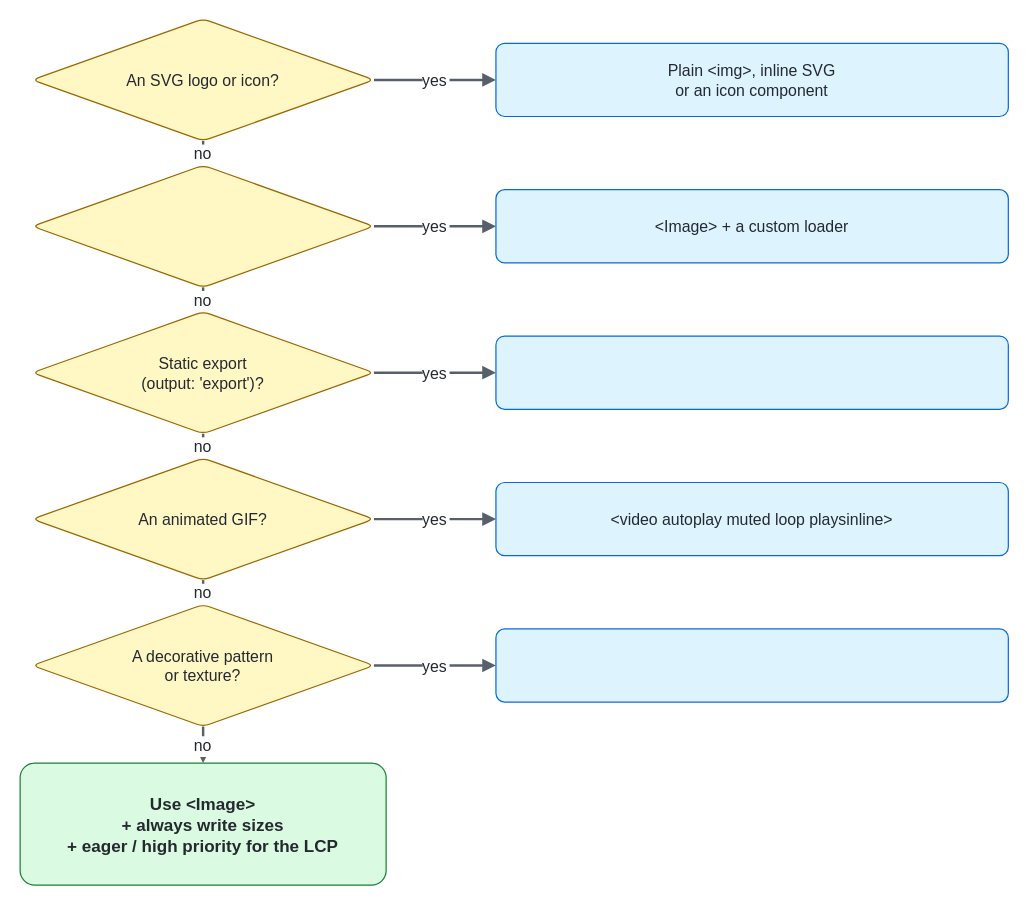
Image size: 1028x905. Some labels were removed from this diagram. The shapes that lost their labels are listed below. From the top down, each one's centre as x and y in pixels, then its label:
At [202,225]: "Already served by an image CDN?".
At [751,372]: "Custom loader, or images: { unoptimized: true }".
At [751,665]: "CSS background-image".
